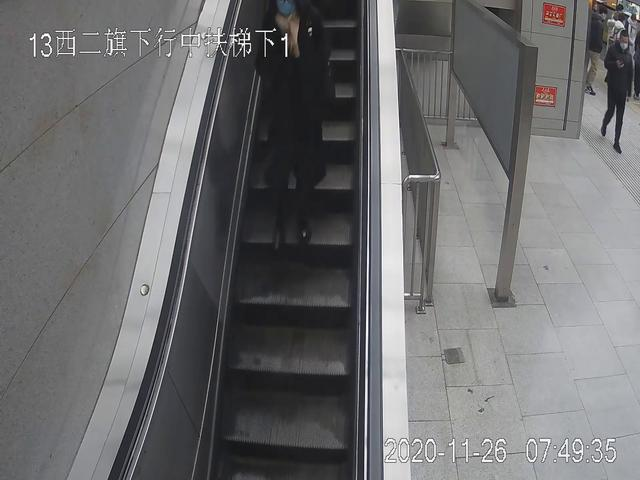person: (256, 2, 330, 263), (601, 30, 632, 155), (585, 4, 604, 95)
